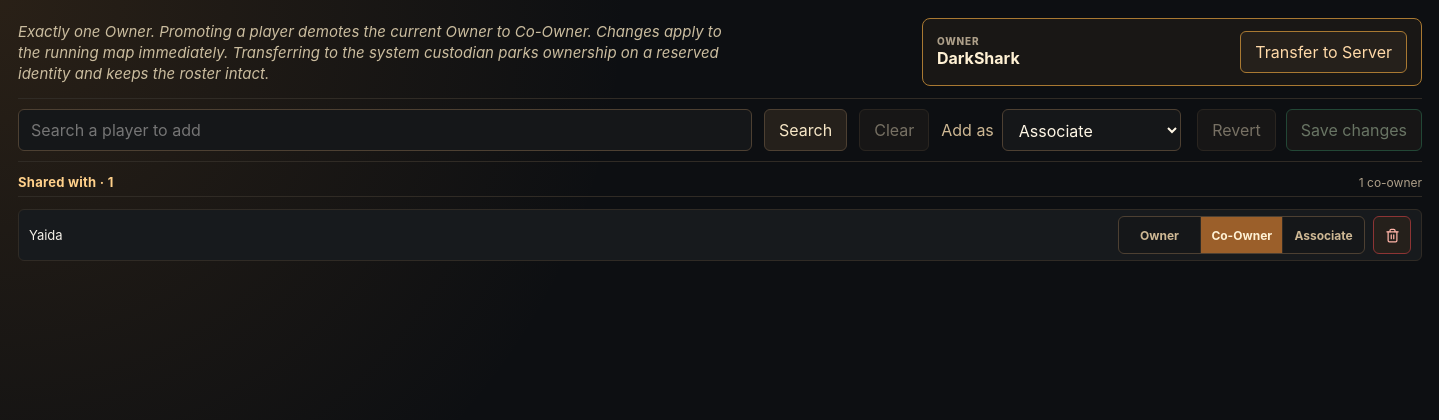
it: VehiclePermissionsTab system custodian › disables Transfer while the roster is dirty
The image size is (1439, 420).
What coordinates should you click on to do the following:
click the radio button with aria-label "Associate for Yaida"
I would click on:
 (1323, 236)
Its box is [1282,217,1364,255].
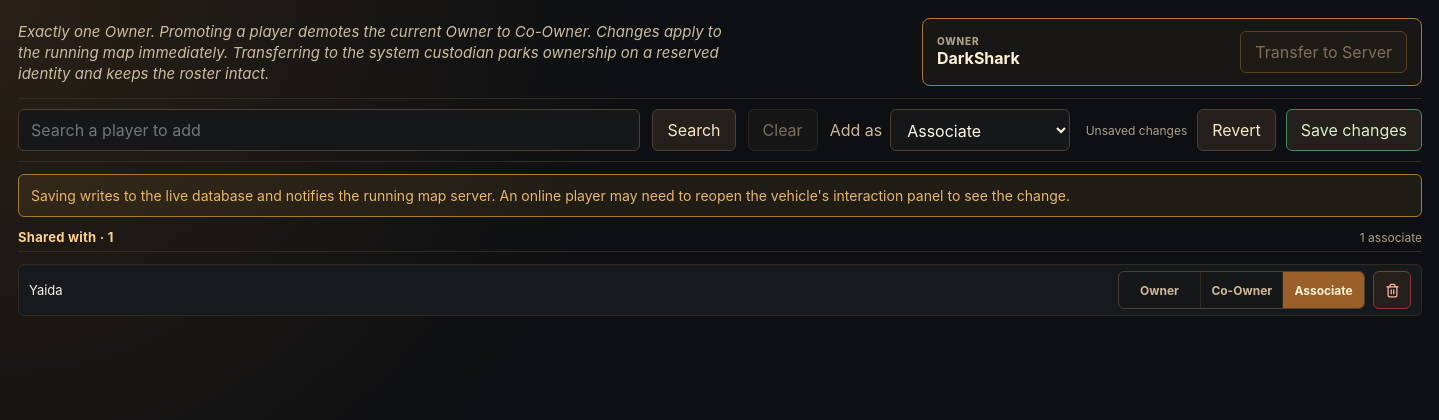
Result: the button "Revert" is enabled at [1197,109,1276,151]
Result: the button "Transfer to Server" is disabled at [1240,31,1407,73]
